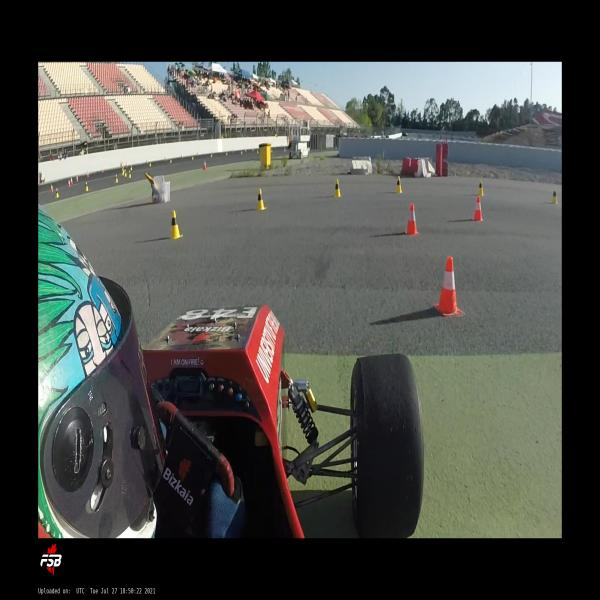orange_cone: (434, 256, 463, 317), (405, 203, 419, 235), (472, 196, 483, 221), (50, 183, 54, 192), (203, 160, 206, 170), (70, 176, 73, 185), (68, 178, 70, 187), (76, 174, 78, 182), (87, 171, 89, 177), (102, 167, 104, 173), (126, 161, 128, 167)
yellow_cone: (169, 209, 183, 240), (255, 188, 266, 209), (333, 179, 341, 198), (395, 175, 402, 194), (477, 180, 484, 196), (551, 189, 557, 204), (55, 186, 60, 198), (85, 180, 88, 191), (115, 172, 118, 183), (124, 168, 127, 177), (121, 168, 124, 176), (129, 168, 131, 179), (130, 164, 132, 171), (150, 161, 152, 167), (170, 157, 172, 163), (210, 152, 212, 158), (192, 155, 194, 160), (226, 151, 228, 156)
